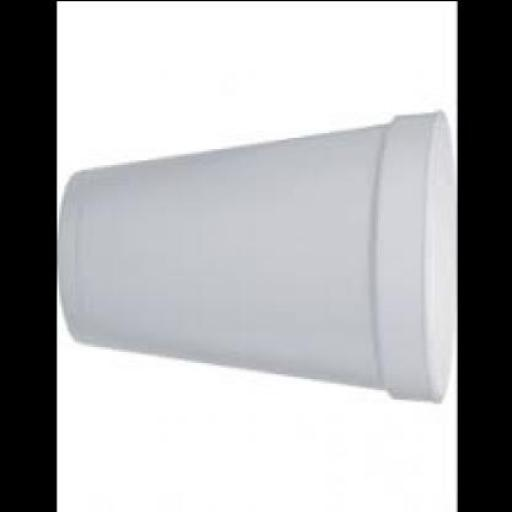paper: (59, 114, 462, 405)
